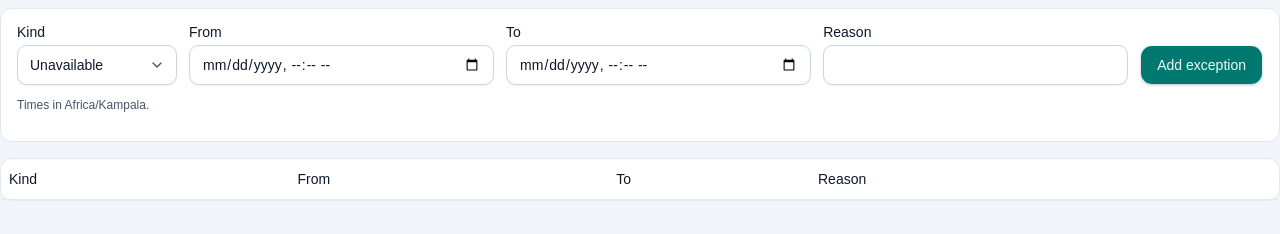
Test: ExceptionsTab › rejects an end before the start
Type "2026-03-02T12:00" into the field labelled "From".
click(342, 65); type("2026-03-02T12:00")  # box [189,45,494,85]
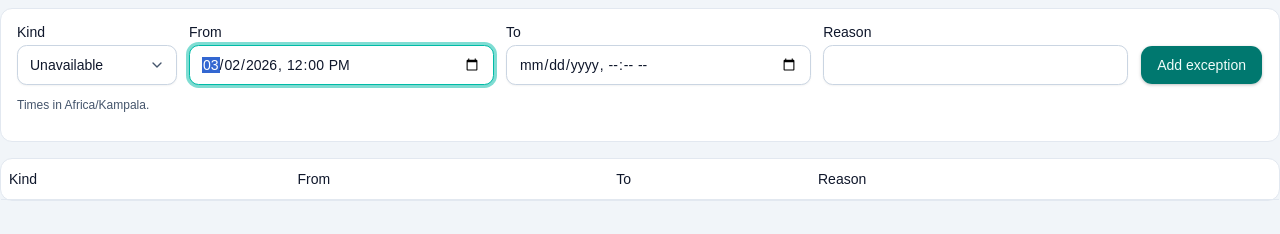
Type "2026-03-02T09:00" into the field labelled "To".
click(659, 65); type("2026-03-02T09:00")  # box [506,45,811,85]
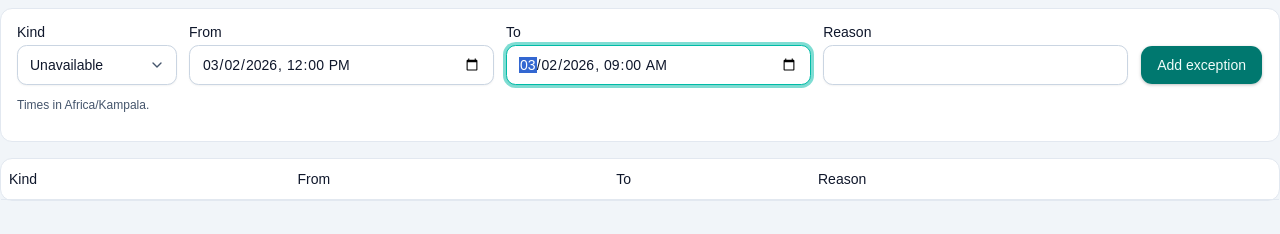
Click the button "Add exception".
click(1202, 65)  # box [1140,45,1263,85]
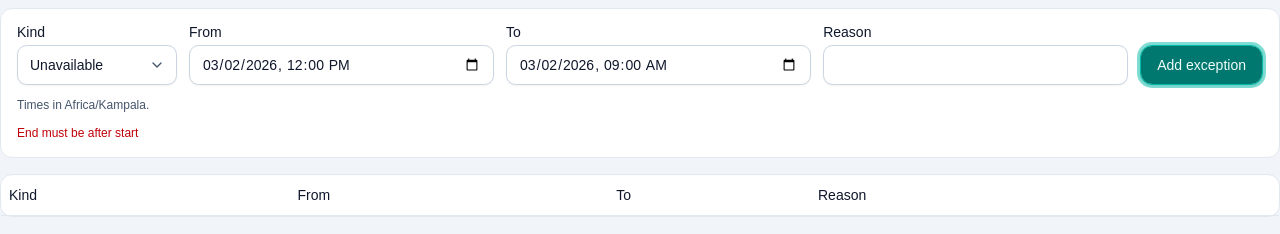
Check: the text "End must be after start" is shown, box [17,126,138,140]
